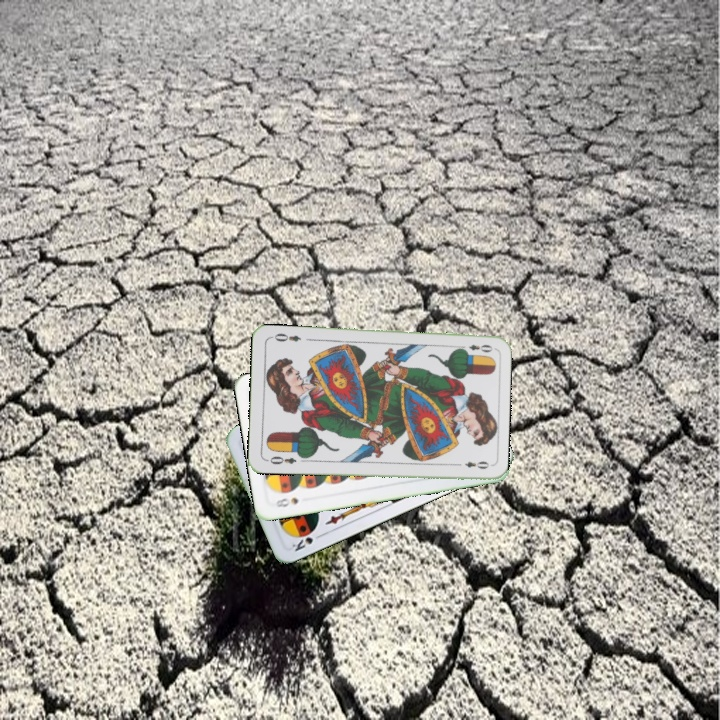EO: (455, 340, 495, 355), (263, 452, 299, 467)
S8: (272, 493, 301, 510)
SK: (288, 530, 326, 554)
